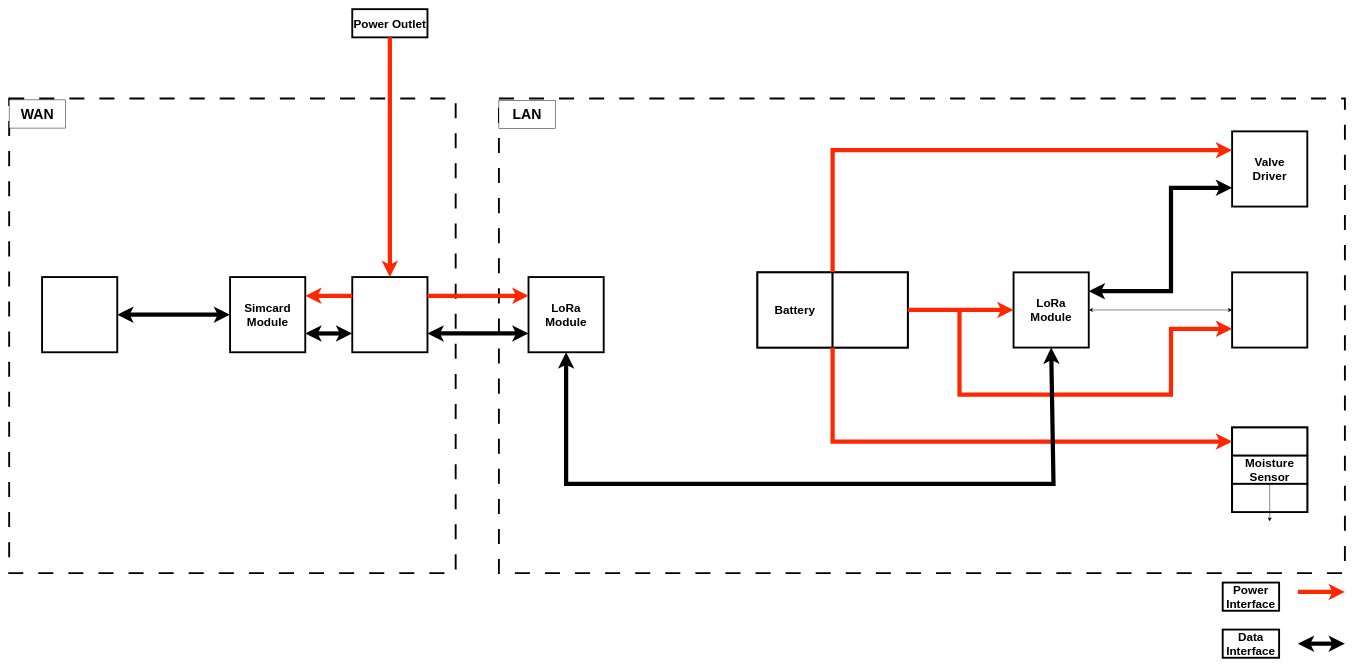
The diagram is 1359 pixels wide and 666 high, and some of its shapes have lost their labels. The box of each missing label's shape, as (x1, y1, x2, y2) in pixels:
Central Micro controller: (351, 276, 428, 353)
Flow Sensor: (1231, 483, 1308, 513)
Low-power micro ,controller: (1231, 271, 1308, 348)
Remote Mobile Device: (41, 276, 118, 353)
Solar Panel: (831, 271, 909, 348)
Temperature Sensor: (1231, 426, 1308, 456)
